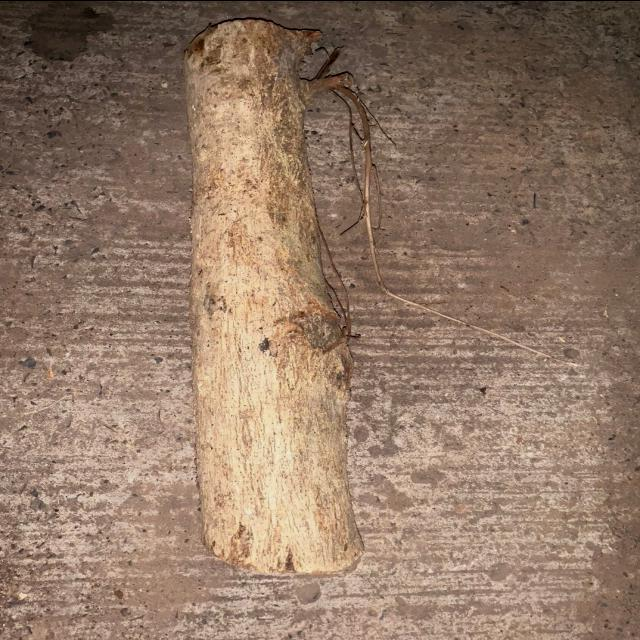General: (181, 15, 373, 578)
Sharps: (318, 72, 584, 372)
